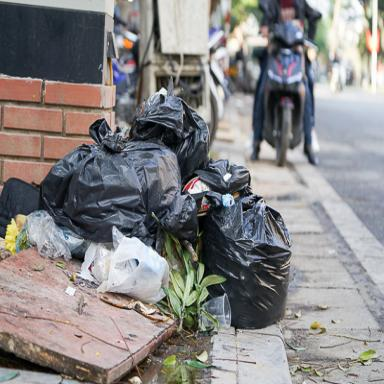plasticbag: (5, 88, 219, 308), (186, 172, 292, 332), (85, 211, 182, 300), (13, 204, 86, 272)
